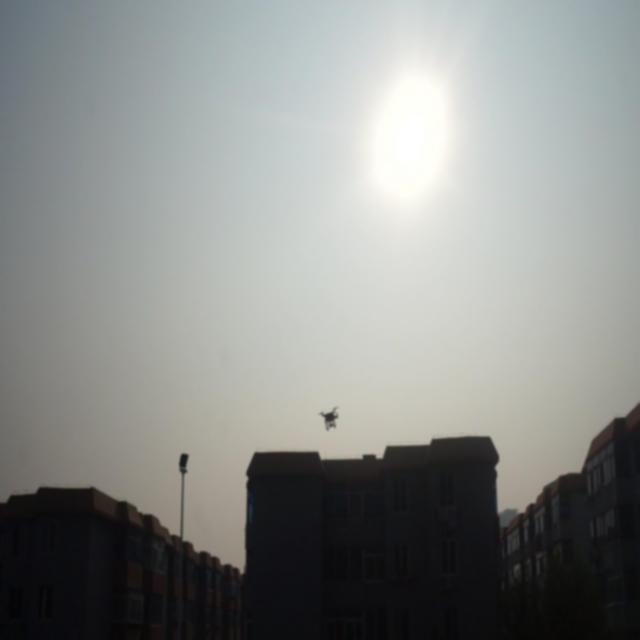UAV: (318, 406, 339, 432)
